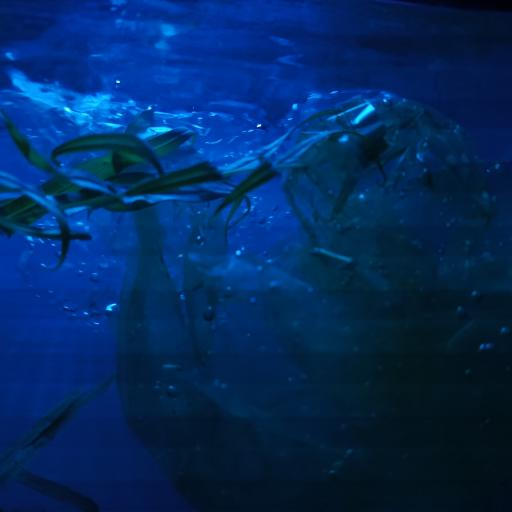plastic_bag: (0, 84, 512, 483)
